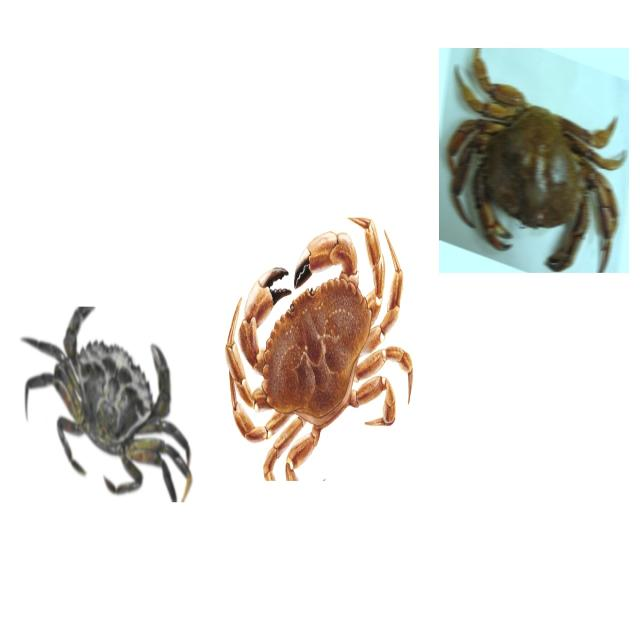egc: (20, 306, 200, 504)
jonah_crab: (220, 215, 417, 485)
rock_crab: (440, 45, 627, 279)
